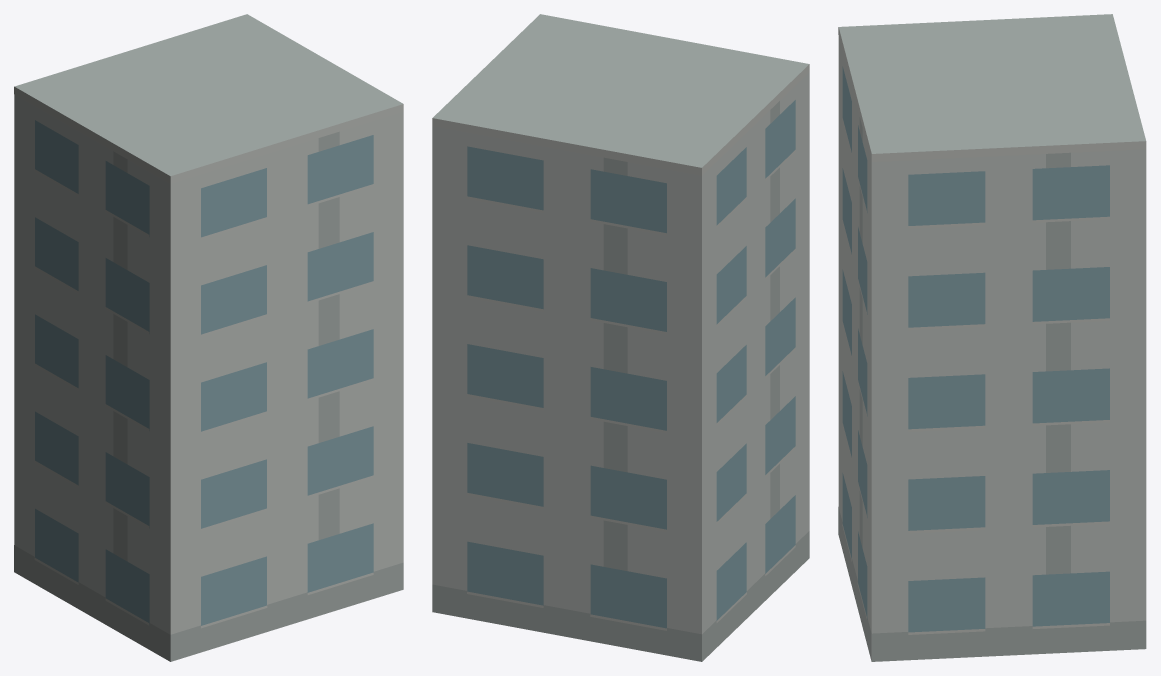
The model's file is residential-bd48976e-1d2c-4111-9416-272e0b45d4a0.glb.
3 renders of one model, left to right at view 1: azimuth 30°, elevation 25°; view 2: azimuth 150°, elevation 25°; view 3: azimuth 270°, elevation 25°, orthographic. The views are drawn at different scales.
Visible parts, largest first — view 1: residential-bd48976e-1d2c-4111-9416-272e0b45d4a0.tmp; view 2: residential-bd48976e-1d2c-4111-9416-272e0b45d4a0.tmp; view 3: residential-bd48976e-1d2c-4111-9416-272e0b45d4a0.tmp.
Part boxes in pixels (x1,y1,x2,y2): residential-bd48976e-1d2c-4111-9416-272e0b45d4a0.tmp: [14, 14, 403, 661]; residential-bd48976e-1d2c-4111-9416-272e0b45d4a0.tmp: [432, 14, 809, 661]; residential-bd48976e-1d2c-4111-9416-272e0b45d4a0.tmp: [838, 14, 1146, 661].
Bounding box in the file's own units: 9.02 × 15.25 × 8.38.
